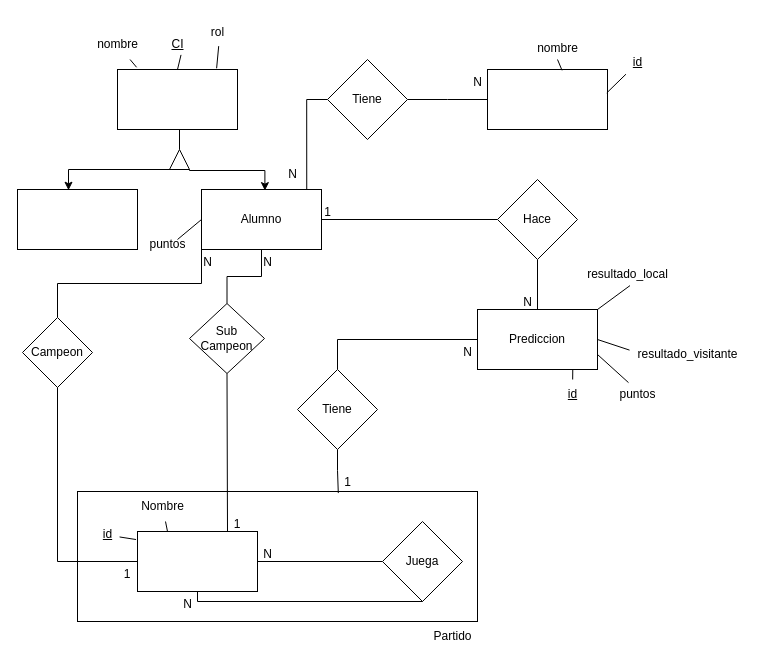
This 765x668 diagram has some shape labels left out. The shapes that lost their labels are listed below. From the top down, each one's box as (x1, y1, x2, y2) in pixels, then its label:
(116, 68, 238, 130): Usuario
(486, 68, 608, 130): Carrera
(16, 188, 138, 250): Administrador
(136, 530, 258, 592): Equipo
